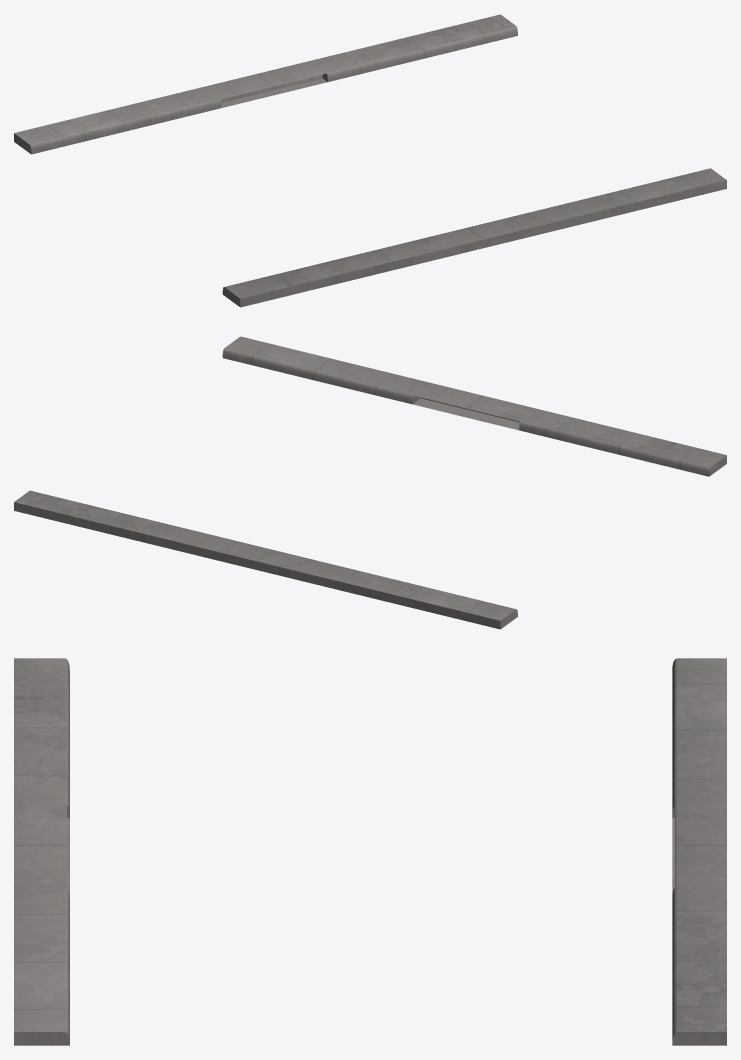
File: SideWalks_Short_Sewer.fbx
3 renders of one model, top to bottom at view 1: azimuth 30°, elevation 25°; view 2: azimuth 150°, elevation 25°; view 3: azimuth 270°, elevation 25°, orthographic. The views are drawn at different scales.
Parts seen in each view (by area): view 1: SideWalks_Short_Sewer; view 2: SideWalks_Short_Sewer; view 3: SideWalks_Short_Sewer.
Boxes of the visible parts, x1,y1,x2,y2 form: SideWalks_Short_Sewer: [14, 14, 726, 307]; SideWalks_Short_Sewer: [14, 336, 726, 629]; SideWalks_Short_Sewer: [14, 658, 726, 1045].
Bounding box in the file's own units: 701 × 565 × 11.97.
